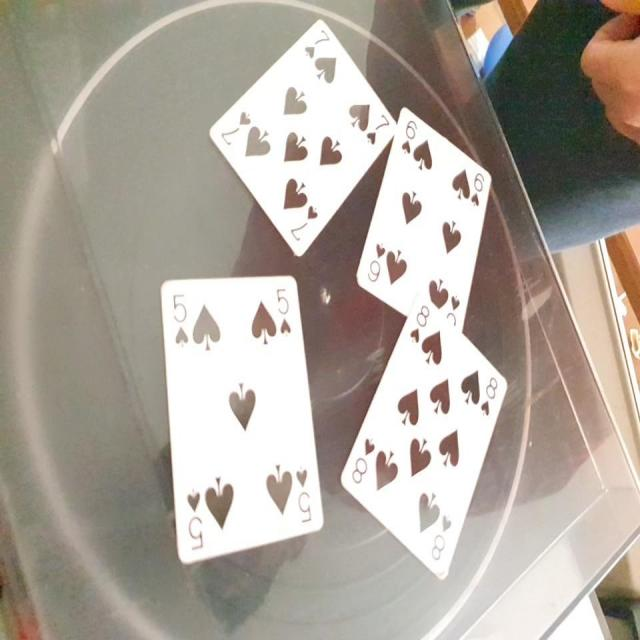5 Spades: (148, 258, 332, 570)
6 Spades: (351, 94, 500, 348)
7 Spades: (200, 12, 398, 265)
8 Spades: (336, 290, 514, 606)
